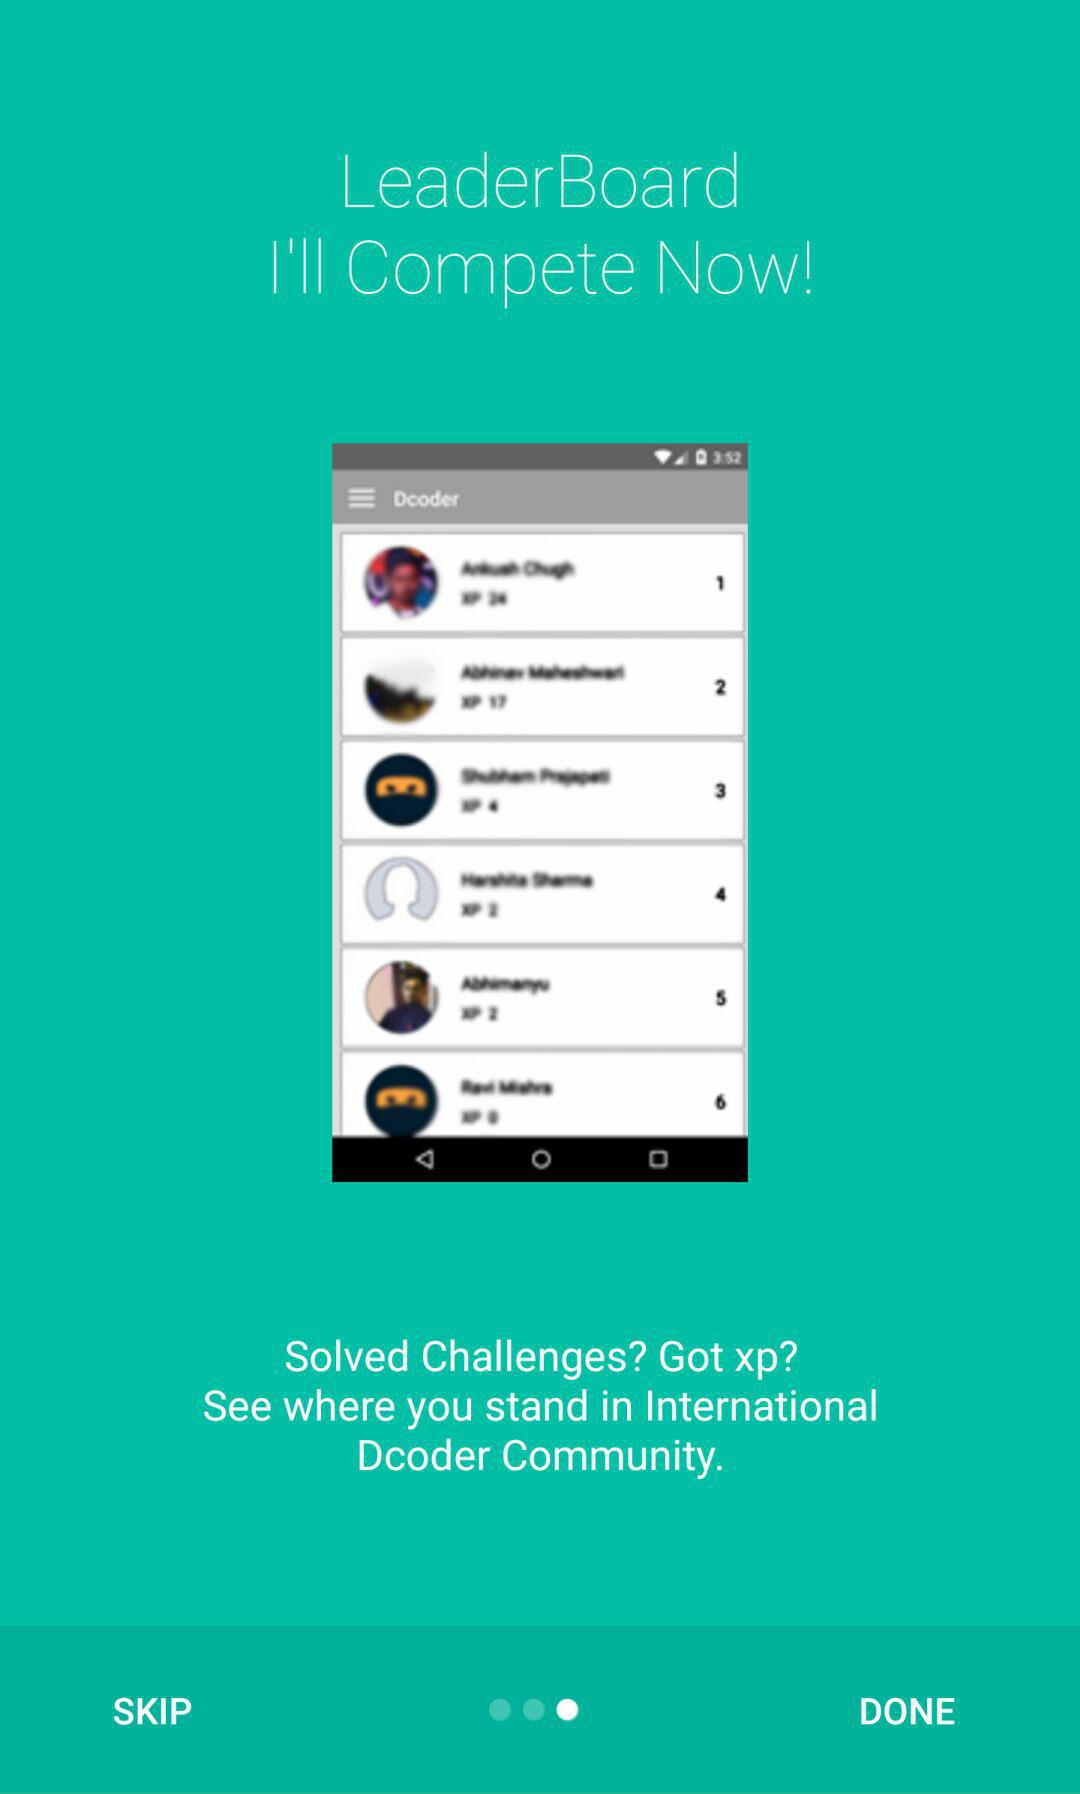Image: (331, 442, 749, 1183)
PageIndicator: (488, 1697, 579, 1722)
Text: (204, 1337, 878, 1477), (272, 152, 816, 311), (858, 1697, 956, 1726), (114, 1697, 192, 1726)
